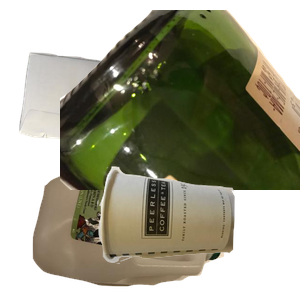glass: (60, 10, 300, 190)
paper: (17, 50, 231, 230)
plastic: (30, 159, 247, 300)
trash: (95, 164, 300, 300)
